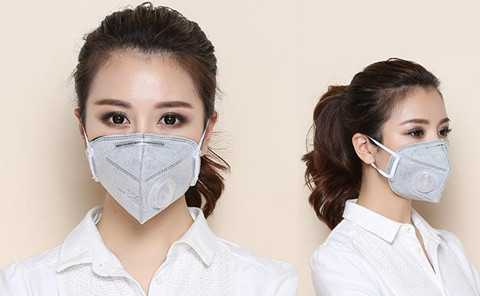face_mask: (88, 86, 200, 224), (387, 107, 452, 207)
